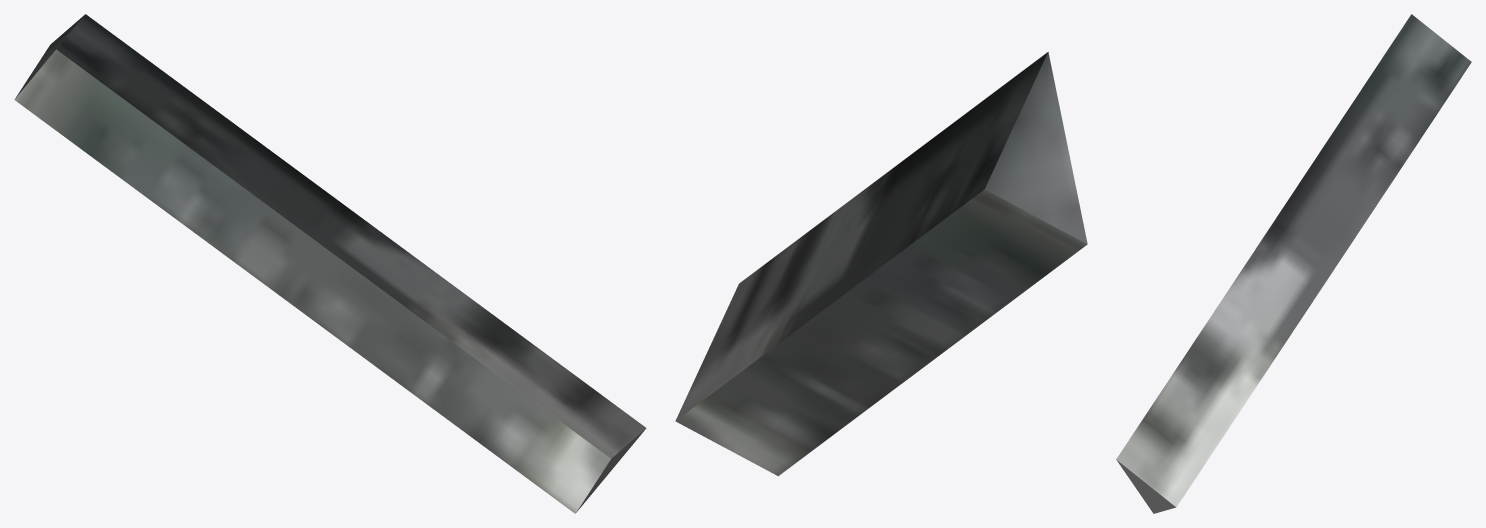
File: 39538_bldg_Building.glb
3 renders of one model, left to right at view 1: azimuth 30°, elevation 25°; view 2: azimuth 150°, elevation 25°; view 3: azimuth 270°, elevation 25°, orthographic. The views are drawn at different scales.
Size of the model in its own units: 18.08 by 18.72 by 16.26.
Materials: 2 (1 with a texture image).
